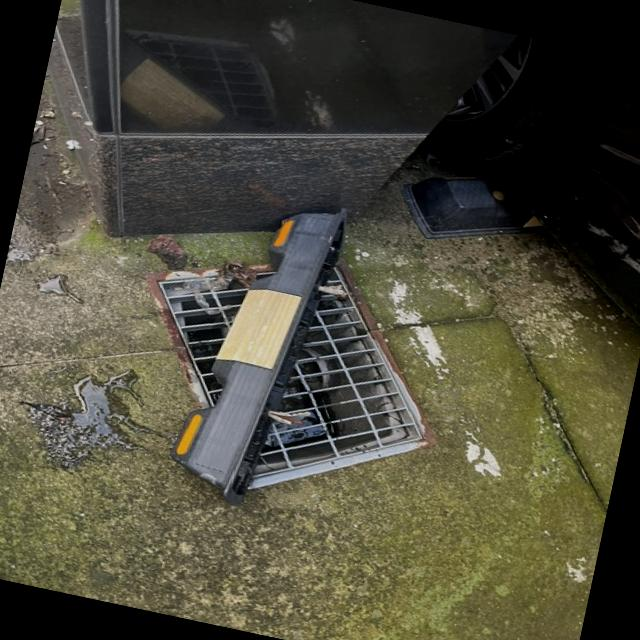drain_area: (251, 292, 424, 480), (158, 276, 247, 408), (325, 267, 348, 292), (255, 269, 274, 280)
drain_full: (158, 266, 423, 479)
